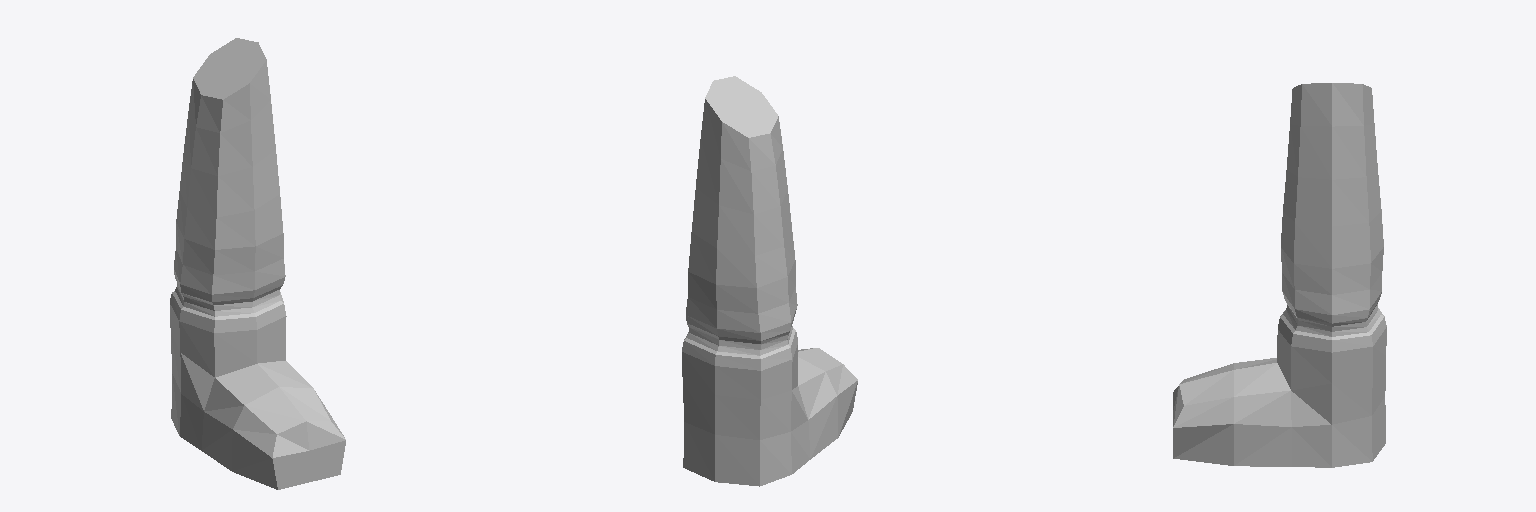
The model's file is lleg.obj.
3 renders of one model, left to right at view 1: azimuth 30°, elevation 25°; view 2: azimuth 150°, elevation 25°; view 3: azimuth 270°, elevation 25°, orthographic.
Parts seen in each view (by area): view 1: llegpos; view 2: llegpos; view 3: llegpos.
Part boxes in pixels (bbox=[...]): llegpos: bbox=[170, 38, 345, 489]; llegpos: bbox=[682, 76, 857, 486]; llegpos: bbox=[1173, 83, 1386, 467].
Size of the model in its own units: 47.94 by 169 by 87.53.